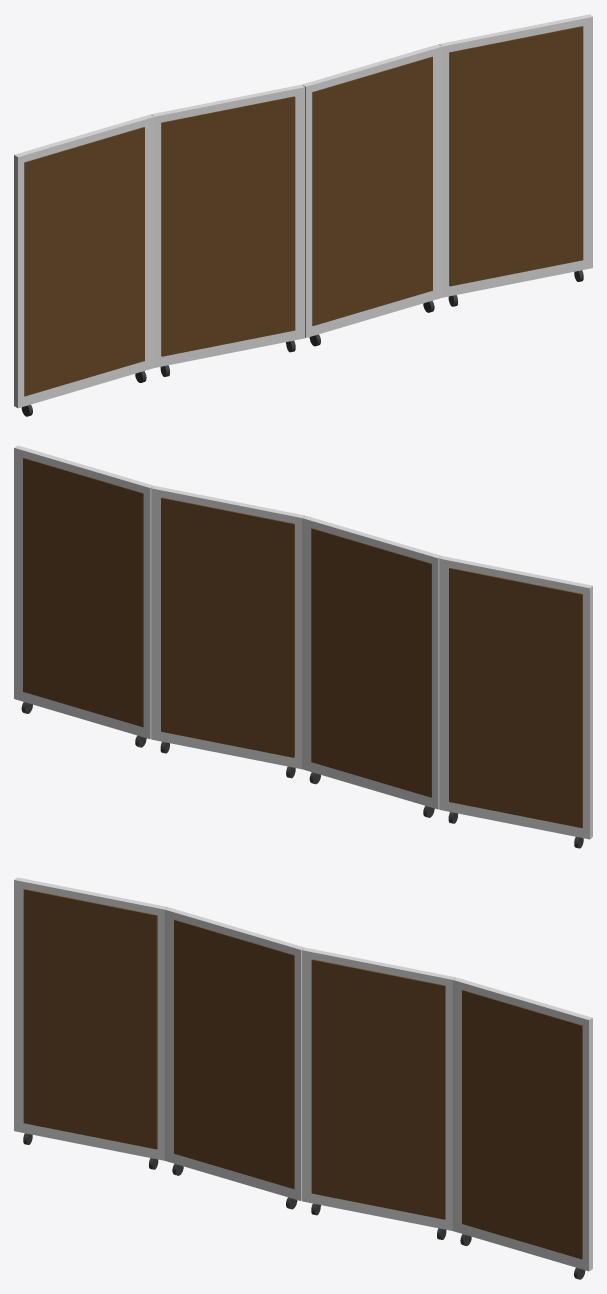
Rendered from sekat.glb.
The picture shows the model from 3 angles, top to bottom: view 1: azimuth 30°, elevation 25°; view 2: azimuth 150°, elevation 25°; view 3: azimuth 330°, elevation 25°; orthographic projection.
Visible parts, largest first — view 1: Wood_1, Wood_3, Wood_0, Wood_2, Frame_0, Frame_3, Frame_1, Frame_2; view 2: Wood_2, Wood_0, Wood_1, Wood_3, Frame_0, Frame_1, Frame_3, Frame_2; view 3: Wood_0, Wood_2, Wood_3, Wood_1, Frame_3, Frame_0, Frame_2, Frame_1.
Part boxes in pixels (x1,y1,x2,y2): Wood_1: (161,96,295,356); Wood_3: (449,26,583,286); Wood_0: (24,127,144,396); Wood_2: (312,56,432,325); Frame_0: (14,114,154,408); Frame_3: (439,14,592,297); Frame_1: (151,84,304,367); Frame_2: (302,44,442,337); Wood_2: (161,497,294,757); Wood_0: (449,568,582,827); Wood_1: (311,528,431,797); Wood_3: (23,458,143,727); Frame_0: (439,556,592,839); Frame_1: (302,515,441,809); Frame_3: (14,445,153,738); Frame_2: (151,485,304,769); Wood_0: (23,889,157,1149); Wood_2: (311,959,445,1219); Wood_3: (462,990,582,1259); Wood_1: (174,919,294,1188); Frame_3: (452,977,592,1271); Frame_0: (14,877,167,1160); Frame_2: (302,947,455,1230); Frame_1: (164,907,304,1200).
Bounding box in the file's own units: 4.8 × 2.1 × 0.1894.
